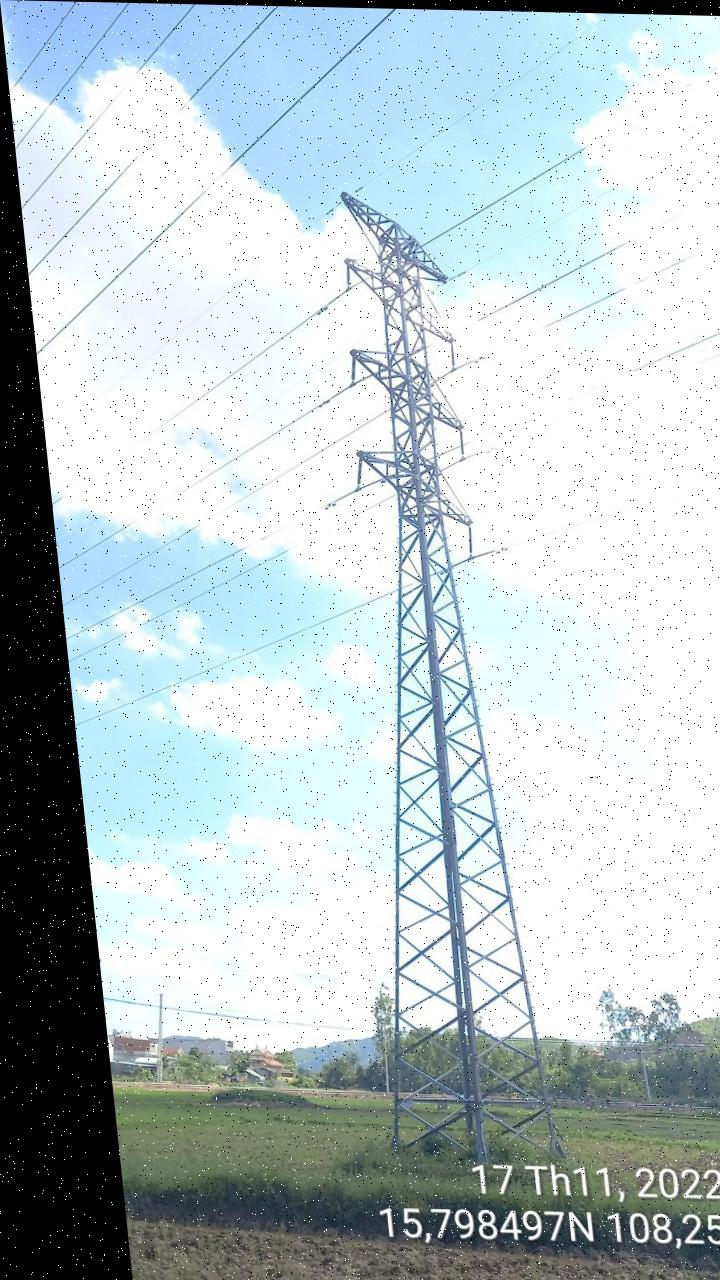tower: (288, 178, 565, 1154)
